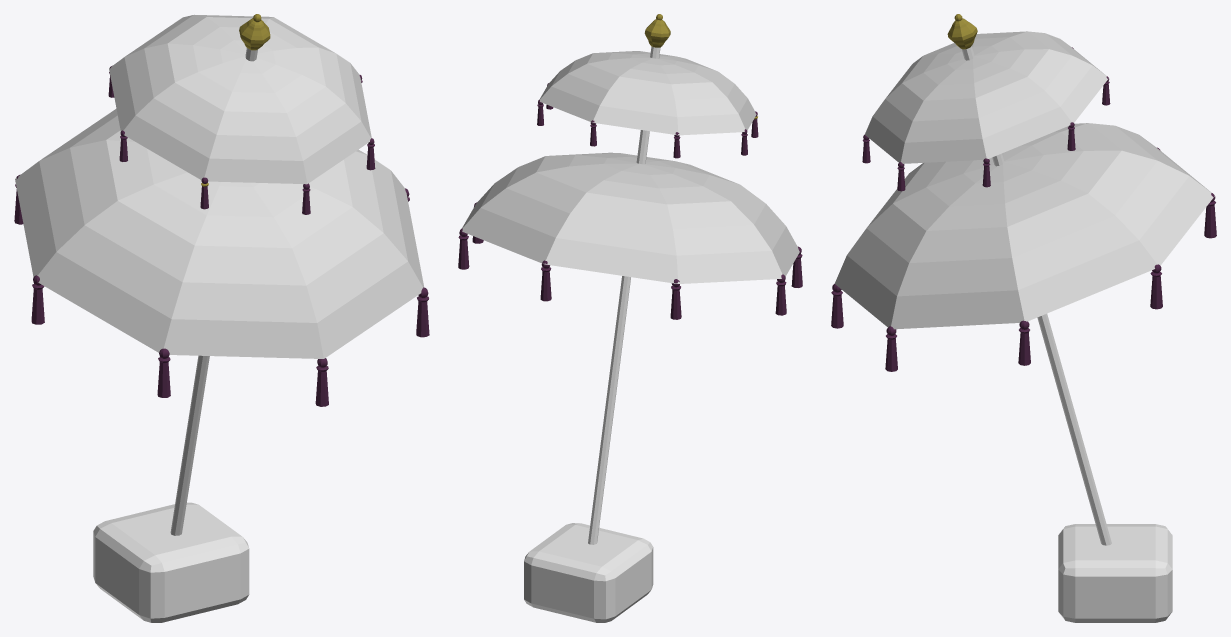
File: parasol_01.fbx
The picture shows the model from 3 angles, left to right: view 1: azimuth 30°, elevation 25°; view 2: azimuth 150°, elevation 25°; view 3: azimuth 270°, elevation 25°; orthographic projection. The views are drawn at different scales.
Visible parts, largest first — view 1: umbrella_02.002, umbrella_pompom.001, umbrella_pompom.055, umbrella_baton02.003, umbrella_02.005; view 2: umbrella_02.002, umbrella_pompom.001, umbrella_baton02.003, umbrella_pompom.055, umbrella_02.005; view 3: umbrella_02.002, umbrella_pompom.001, umbrella_pompom.055, umbrella_baton02.003, umbrella_02.005.
Boxes of the visible parts, x1,y1,x2,y2 form: umbrella_02.002: [15, 14, 424, 358]; umbrella_pompom.001: [93, 502, 249, 622]; umbrella_pompom.055: [14, 65, 429, 406]; umbrella_baton02.003: [170, 48, 257, 535]; umbrella_02.005: [239, 14, 270, 50]; umbrella_02.002: [462, 51, 799, 283]; umbrella_pompom.001: [524, 523, 653, 622]; umbrella_baton02.003: [588, 46, 660, 544]; umbrella_pompom.055: [458, 83, 802, 319]; umbrella_02.005: [644, 14, 670, 47]; umbrella_02.002: [834, 31, 1214, 329]; umbrella_pompom.001: [1058, 524, 1172, 622]; umbrella_pompom.055: [831, 47, 1216, 371]; umbrella_baton02.003: [961, 46, 1111, 545]; umbrella_02.005: [947, 14, 977, 49].
Bounding box in the file's own units: 494 × 806 × 478.
